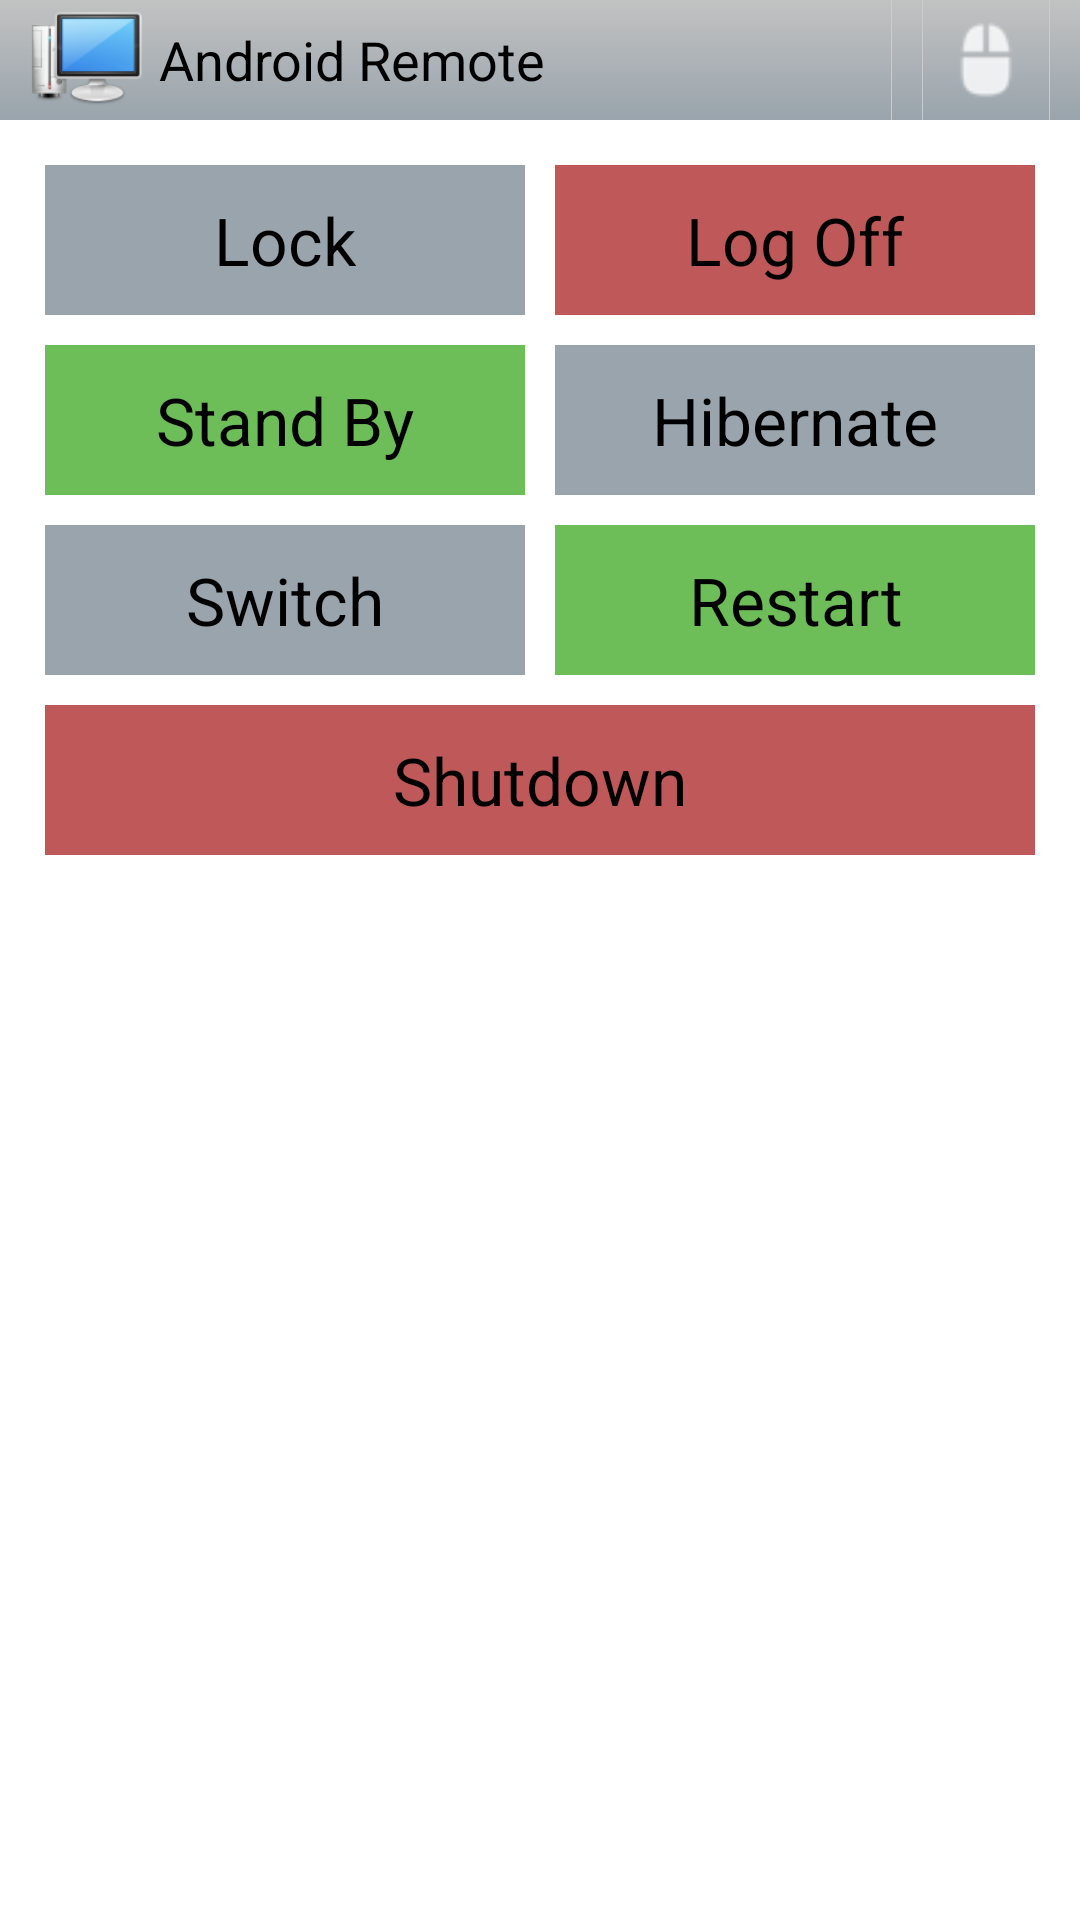

Screen size 1080x1920. Icon name, then its center in pixels as point (x, y):
mouse: point (986, 55)
